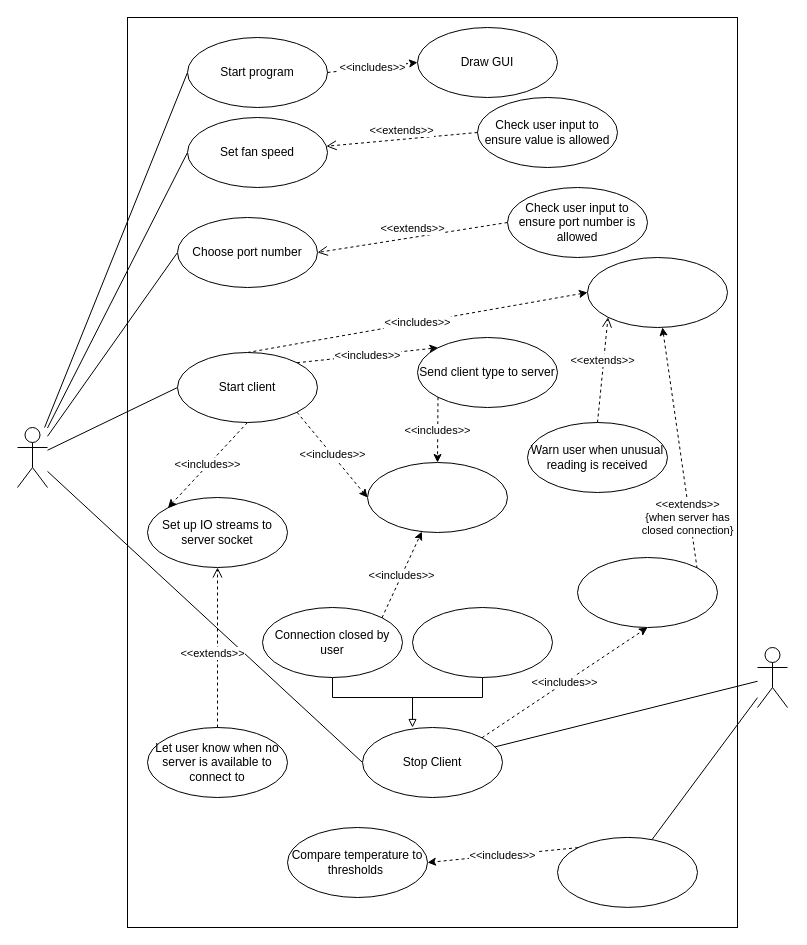
This 807x945 diagram has some shape labels left out. The shapes that lost their labels are listed below. From the top down, each one's box as (x1, y1, x2, y2) in pixels, then its label:
(586, 256, 728, 328): Listen for messages from server
(16, 426, 48, 488): User
(366, 462, 508, 532): Send messages to the server
(576, 556, 718, 628): Close all IO streams
(412, 606, 552, 678): Connection closed by server
(756, 646, 788, 708): Server
(556, 836, 698, 907): Adjust fan speeds
